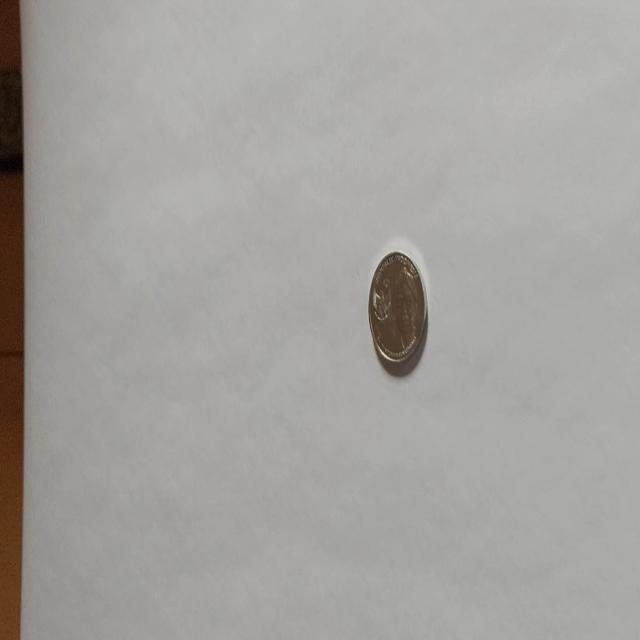dua ratus rupiah: (368, 249, 428, 370)
